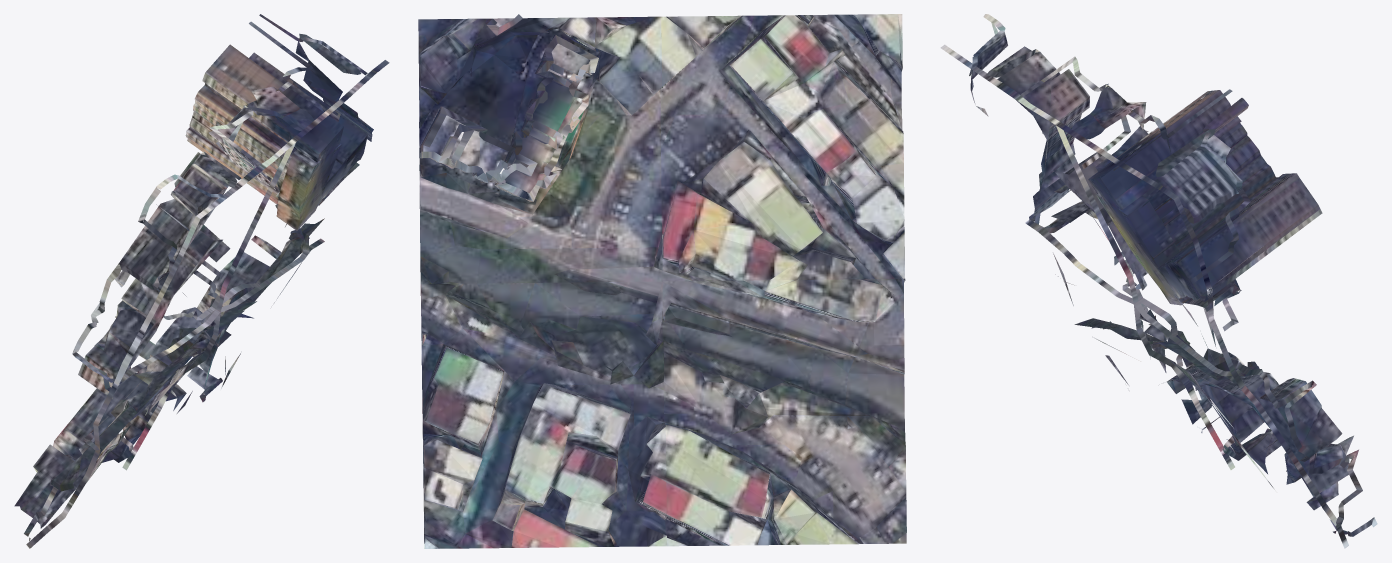
3 views of the same model, side by side, from view 1: azimuth 30°, elevation 25°; view 2: azimuth 150°, elevation 25°; view 3: azimuth 270°, elevation 25° (orthographic). The views are drawn at different scales.
Size of the model in its own units: 153 by 158 by 139.
2 materials, 2 textured.
